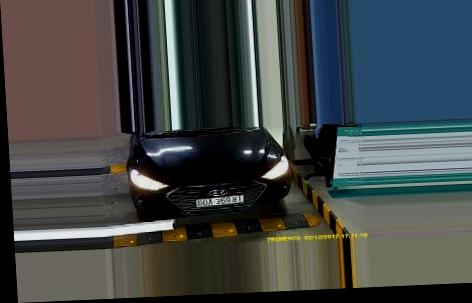License_Plate: (194, 195, 248, 207)
